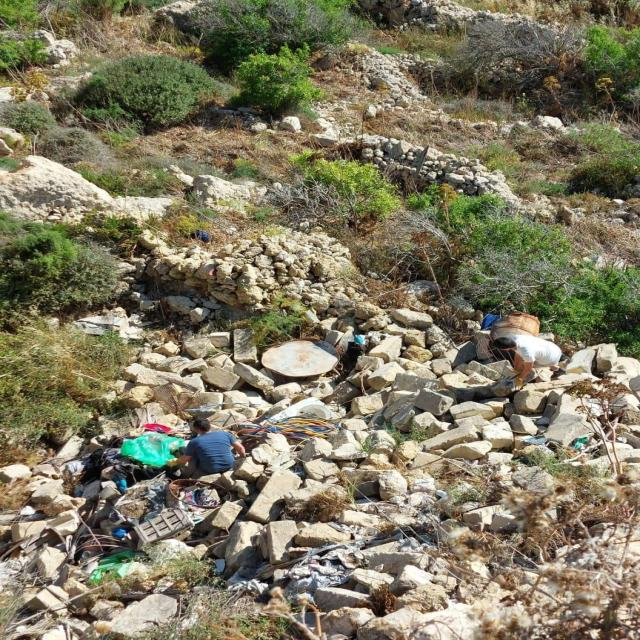Other litter: (285, 526, 385, 588), (258, 336, 343, 380), (74, 449, 156, 491), (167, 477, 239, 508), (487, 310, 542, 345)
Other plastic: (236, 416, 339, 447), (84, 549, 136, 583), (519, 433, 548, 445), (139, 424, 174, 433), (481, 315, 499, 331), (115, 477, 130, 490), (110, 528, 127, 539), (352, 335, 365, 349), (572, 437, 587, 448)
Plastic bag - wrapper: (116, 431, 187, 470)
